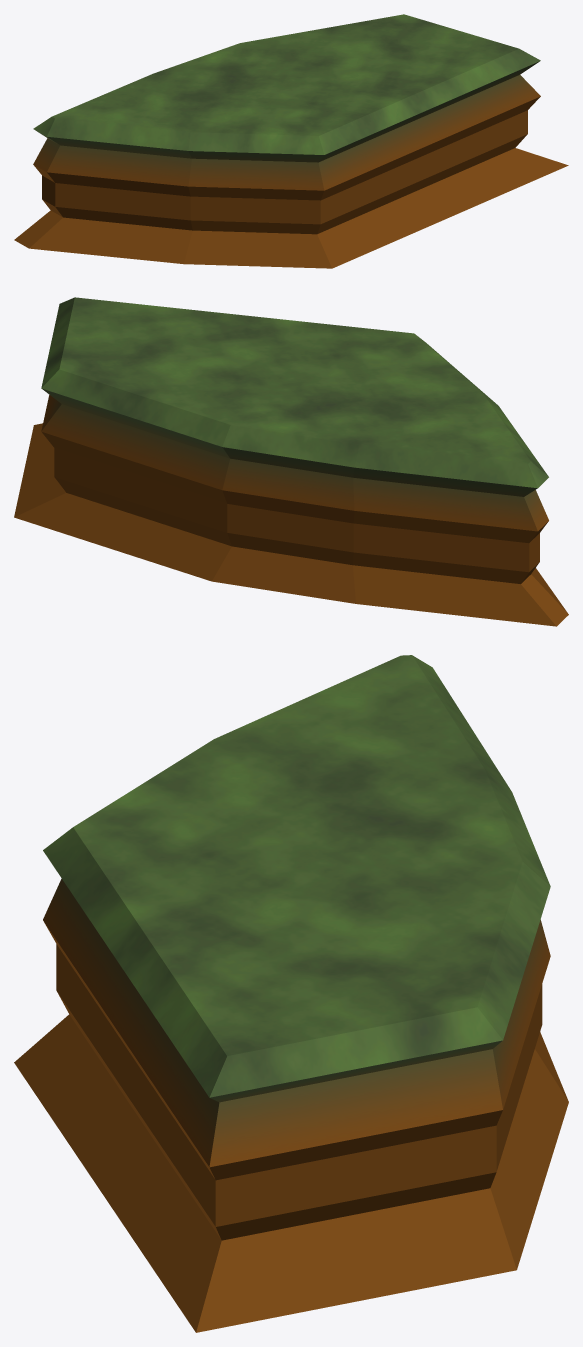
Rendered from T9_Terreno_Lvl1_T.fbx.
3 renders of one model, top to bottom at view 1: azimuth 30°, elevation 25°; view 2: azimuth 150°, elevation 25°; view 3: azimuth 270°, elevation 25°, orthographic. The views are drawn at different scales.
Visible parts, largest first — view 1: T9_modelosBlockout_nivel1; view 2: T9_modelosBlockout_nivel1; view 3: T9_modelosBlockout_nivel1.
Boxes of the visible parts, x1,y1,x2,y2 form: T9_modelosBlockout_nivel1: (14,14,568,268); T9_modelosBlockout_nivel1: (14,297,568,626); T9_modelosBlockout_nivel1: (14,655,568,1332).
Bounding box in the file's own units: 5783 × 1359 × 2885.
